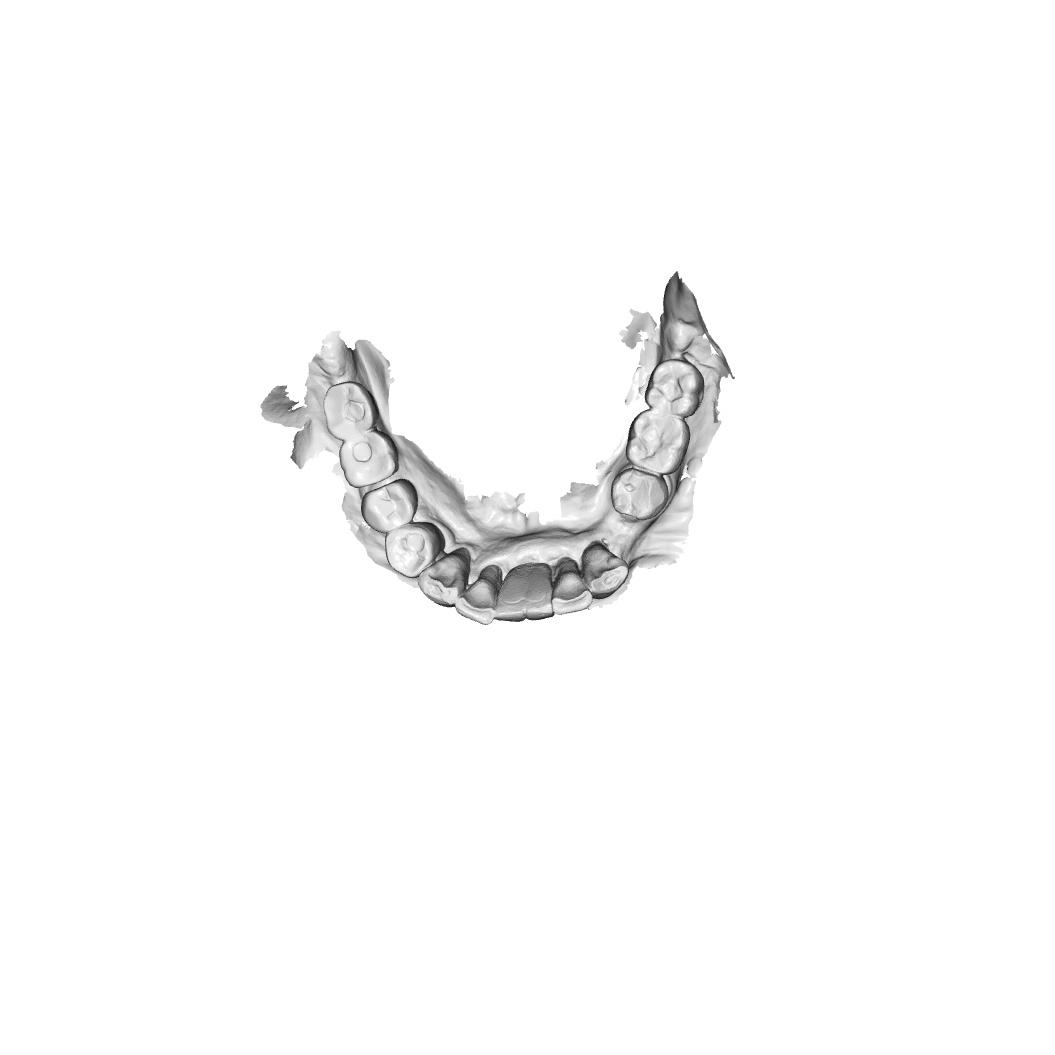canine: (416, 547, 472, 609), (581, 539, 630, 600)
incisor: (455, 565, 503, 626), (550, 557, 593, 616), (493, 564, 527, 623), (526, 563, 555, 621)
molar: (625, 409, 691, 476), (337, 429, 400, 489), (644, 359, 705, 418), (322, 380, 380, 442)
premolar: (384, 521, 446, 579), (360, 478, 419, 534), (610, 467, 670, 522)
